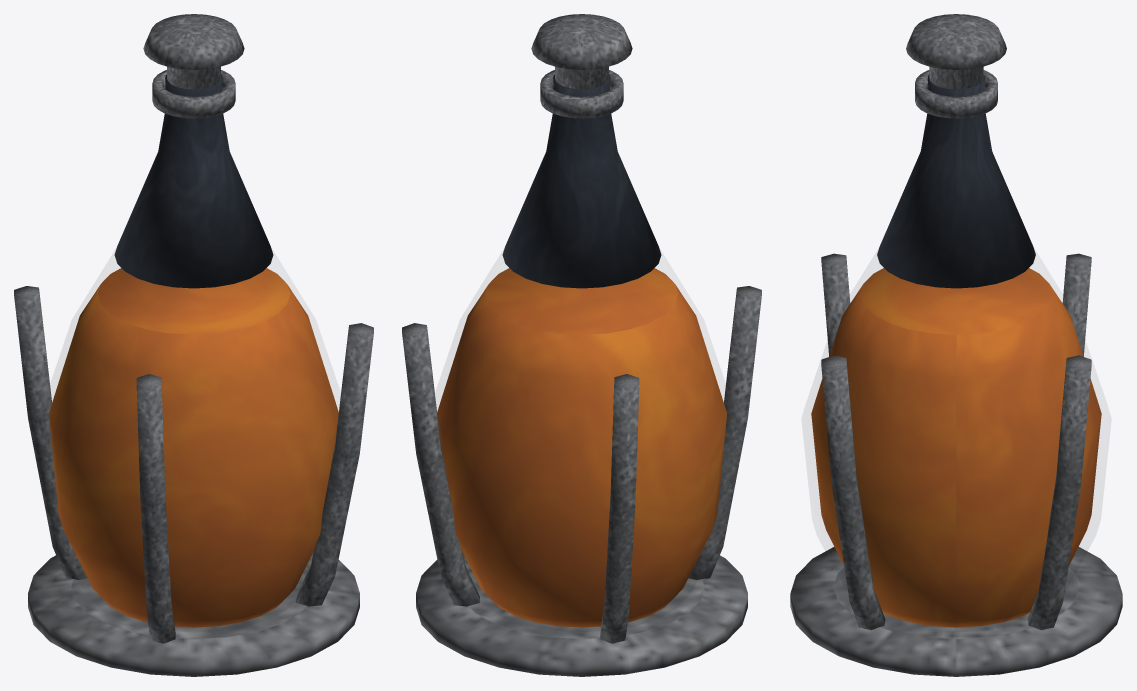
Rendered from item_bottle25.glb.
3 views of the same model, side by side, from view 1: azimuth 30°, elevation 25°; view 2: azimuth 150°, elevation 25°; view 3: azimuth 270°, elevation 25° (orthographic).
Parts seen in each view (by area): view 1: bottle25_solid; view 2: bottle25_solid; view 3: bottle25_solid.
Boxes of the visible parts, left/top/right/bottom form: bottle25_solid: left=14, top=14, right=373, bottom=676; bottle25_solid: left=402, top=14, right=761, bottom=676; bottle25_solid: left=790, top=14, right=1122, bottom=676.
Size of the model in its own units: 1 by 1.96 by 1.
Materials: 2 (1 with a texture image).
